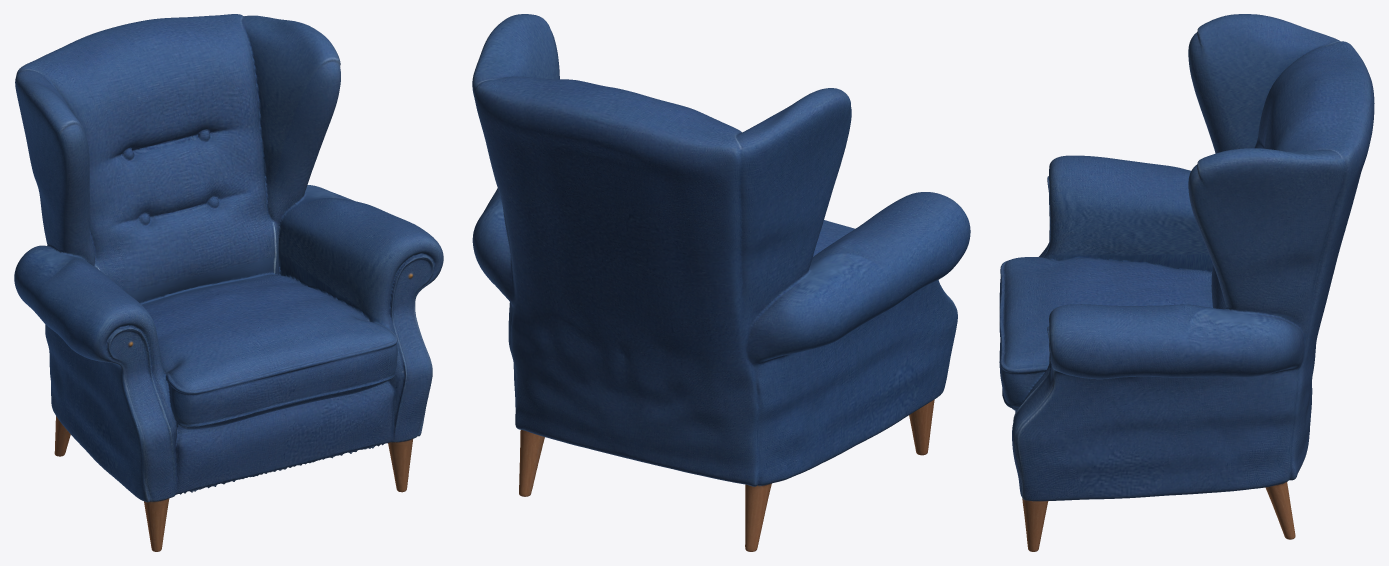
The model's file is da8cc497-a10b-4209-b0b8-8ceba7022e1b.glb.
3 renders of one model, left to right at view 1: azimuth 30°, elevation 25°; view 2: azimuth 150°, elevation 25°; view 3: azimuth 270°, elevation 25°, orthographic. The views are drawn at different scales.
Size of the model in its own units: 1.86 by 1.9 by 1.59.
1 material, 1 textured.
